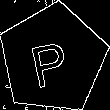P_N: (30, 30, 76, 87)
